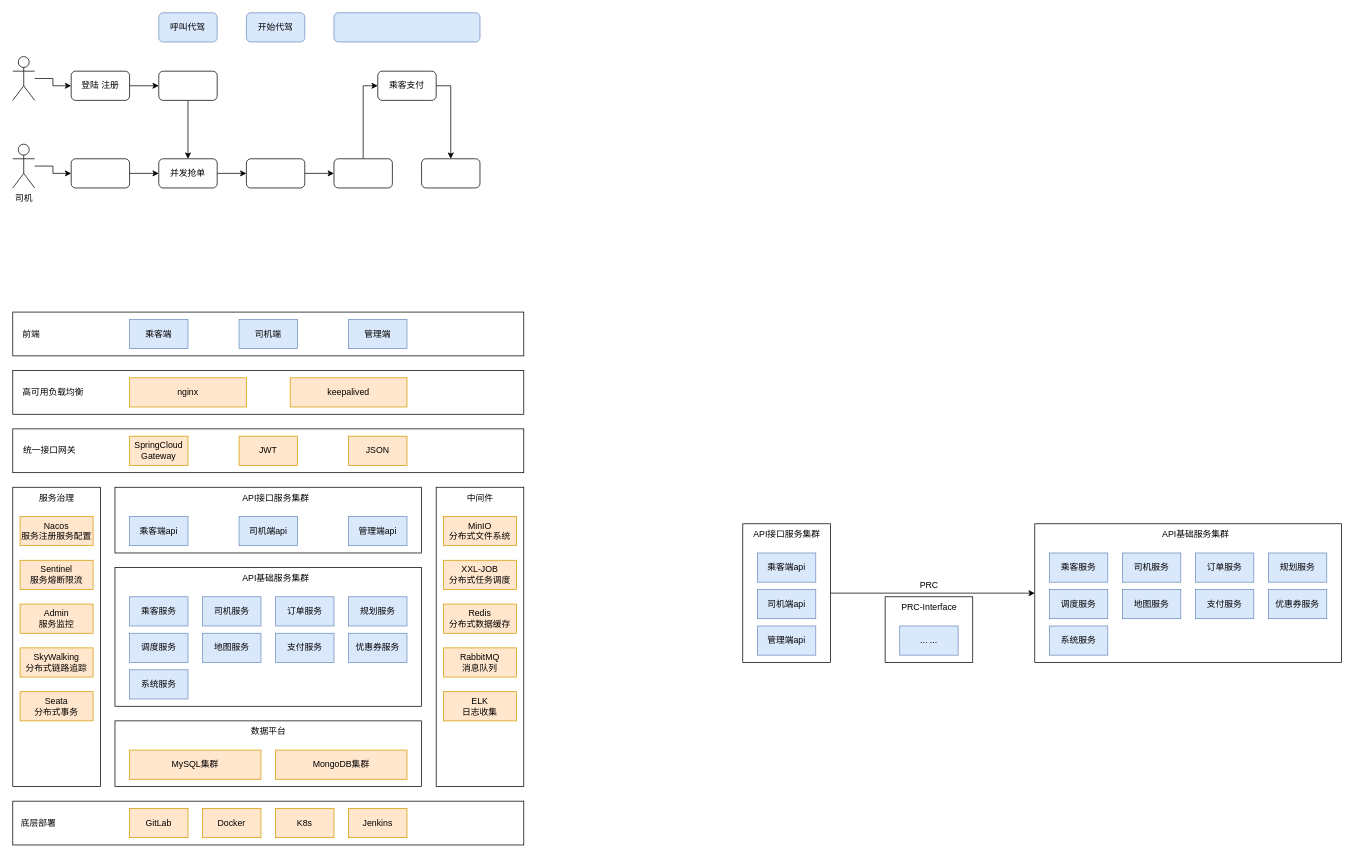
This 1354x858 diagram has some shape labels left out. The centre of each missing label's shape, as x and y in pixels:
"乘客" goes at point (23, 78).
"创建订单" goes at point (187, 85).
"发送账单" goes at point (362, 173).
"平台分账" goes at point (450, 173).
"录入信息" goes at point (275, 173).
"结束代驾" goes at point (406, 27).
"认证" goes at point (100, 173).
